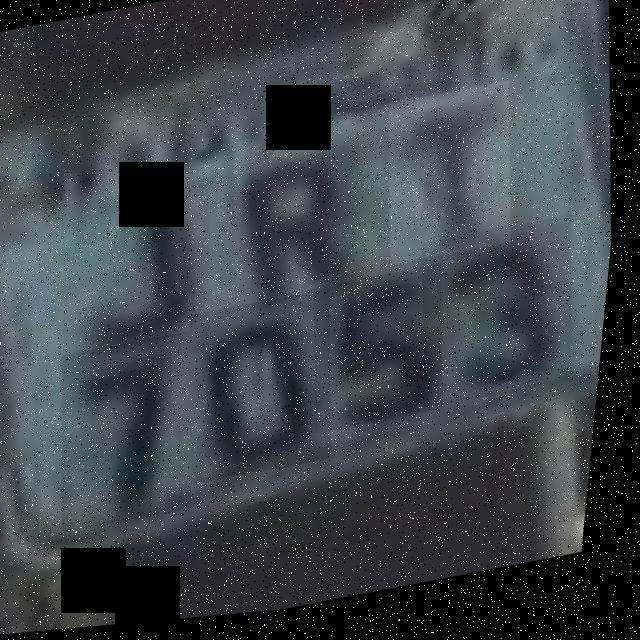0: (183, 293, 354, 490)
3: (414, 224, 593, 418)
5: (309, 271, 463, 440)
7: (54, 334, 215, 536)
J: (53, 180, 230, 381)
R: (206, 135, 390, 335)
T: (379, 88, 528, 274)
